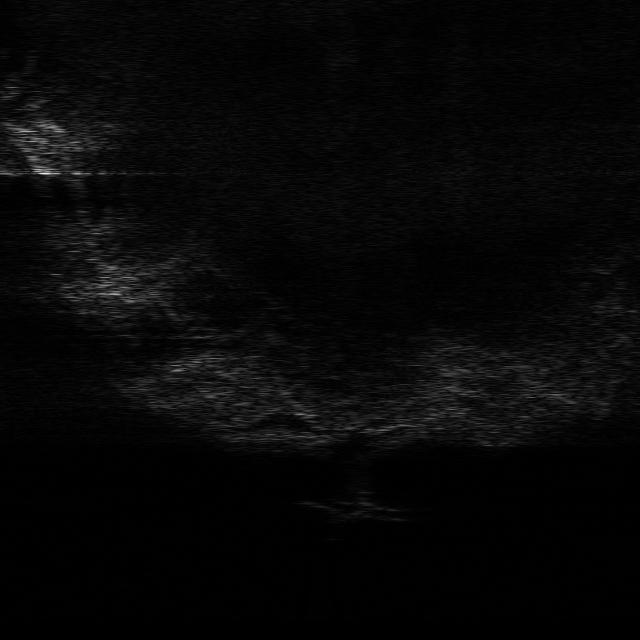plane: (302, 493, 406, 523)
